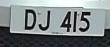1: (73, 9, 81, 36)
4: (59, 8, 73, 36)
5: (79, 9, 92, 36)
D: (23, 6, 37, 33)
J: (37, 8, 53, 33)
